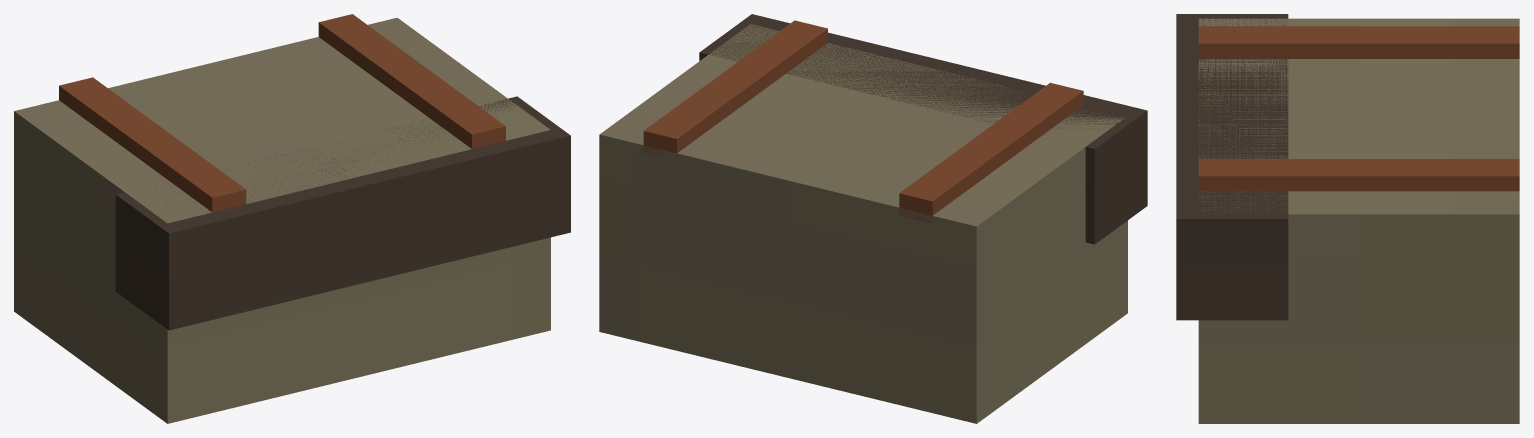
The model's file is satchel.glb.
3 views of the same model, side by side, from view 1: azimuth 30°, elevation 25°; view 2: azimuth 150°, elevation 25°; view 3: azimuth 270°, elevation 25° (orthographic). The views are drawn at different scales.
Parts seen in each view (by area): view 1: Housing; view 2: Housing; view 3: Housing.
Boxes of the visible parts, x1,y1,x2,y2 form: Housing: (14,14,570,423); Housing: (599,14,1147,423); Housing: (1176,14,1519,423).
Bounding box in the file's own units: 0.65 × 0.3325 × 0.46.
Materials: 3 (3 with a texture image).
